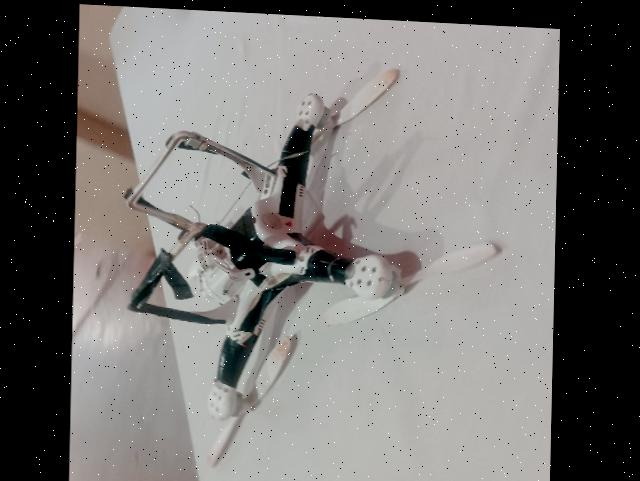drone: (107, 67, 410, 433)
